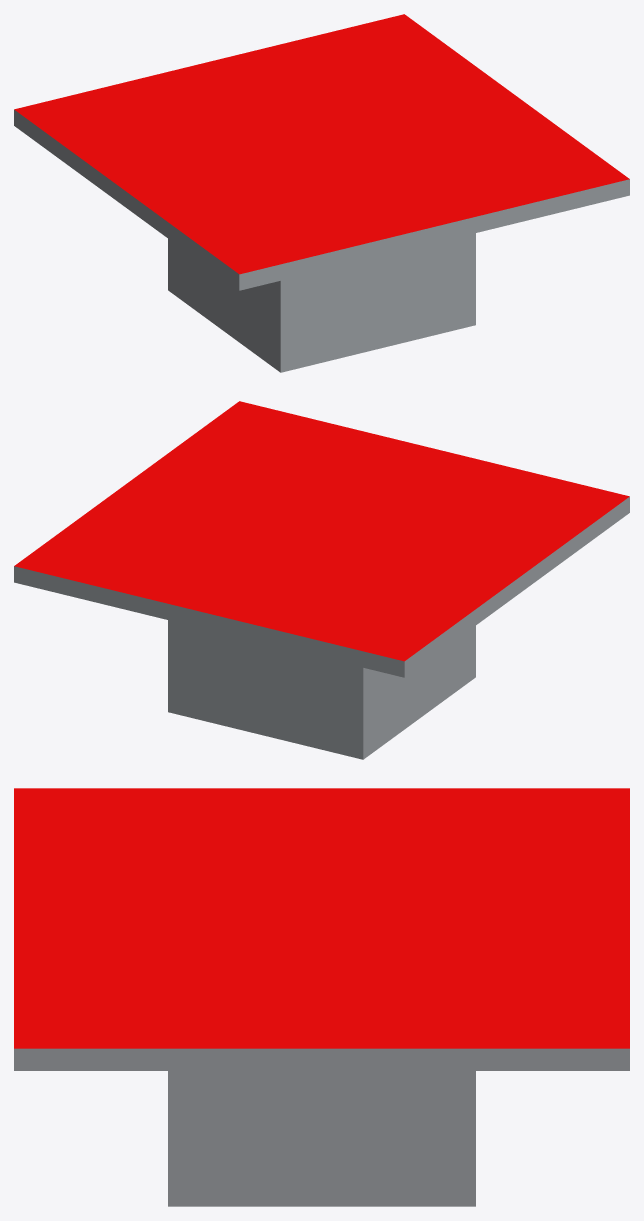
The model's file is HomoBoxRed.dae.
3 views of the same model, one above another, from view 1: azimuth 30°, elevation 25°; view 2: azimuth 150°, elevation 25°; view 3: azimuth 270°, elevation 25° (orthographic). The views are drawn at different scales.
Parts seen in each view (by area): view 1: node0; view 2: node0; view 3: node0.
Part boxes in pixels (<box>): node0: <box>14,14,629,372</box>; node0: <box>14,401,629,759</box>; node0: <box>14,788,629,1206</box>.
Size of the model in its own units: 50 by 50 by 20.
